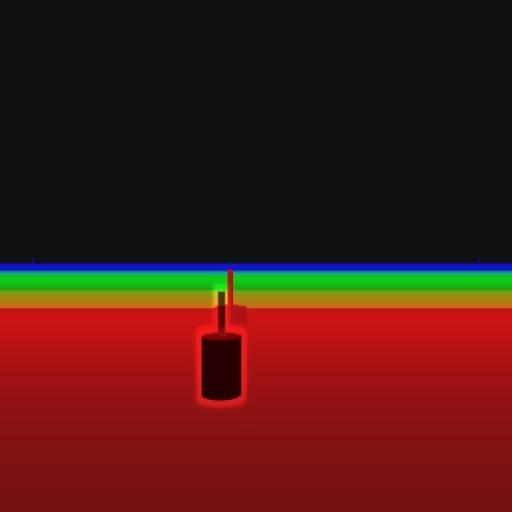floating_obstacle: (201, 288, 247, 404)
